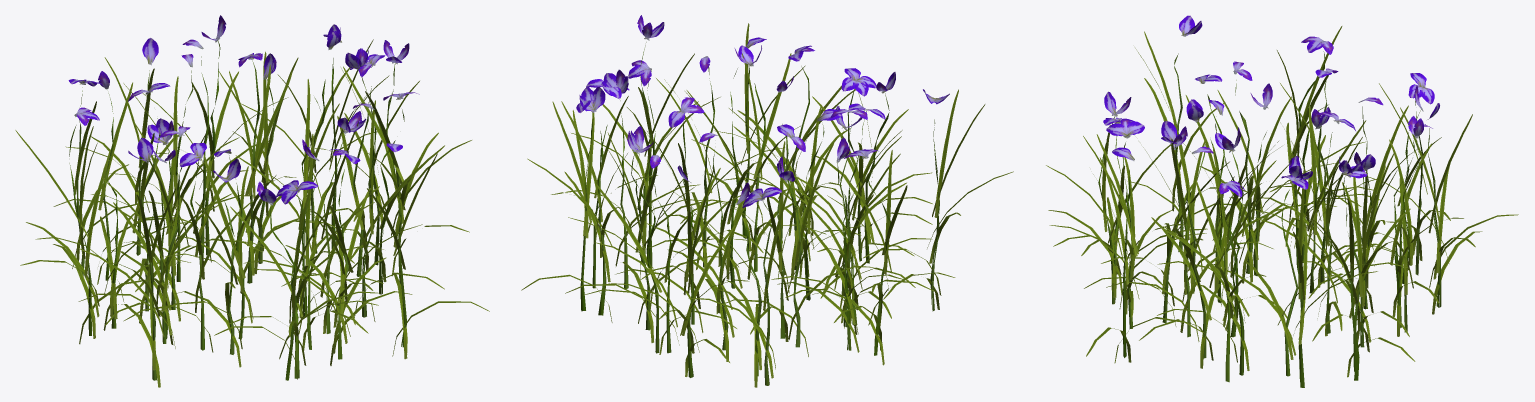
Rendered from garden-iris.glb.
3 renders of one model, left to right at view 1: azimuth 30°, elevation 25°; view 2: azimuth 150°, elevation 25°; view 3: azimuth 270°, elevation 25°, orthographic. The views are drawn at different scales.
Parts seen in each view (by area): view 1: garden-iris; view 2: garden-iris; view 3: garden-iris.
Boxes of the visible parts, x1,y1,x2,y2 form: garden-iris: (15, 15, 489, 387); garden-iris: (521, 15, 1013, 387); garden-iris: (1046, 15, 1518, 387).
Bounding box in the file's own units: 1.22 × 0.75 × 1.25.
Materials: 3 (3 with a texture image).
